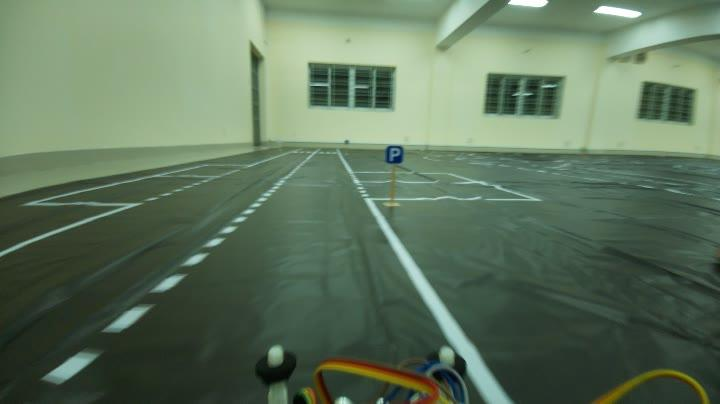parking: (379, 140, 407, 172)
